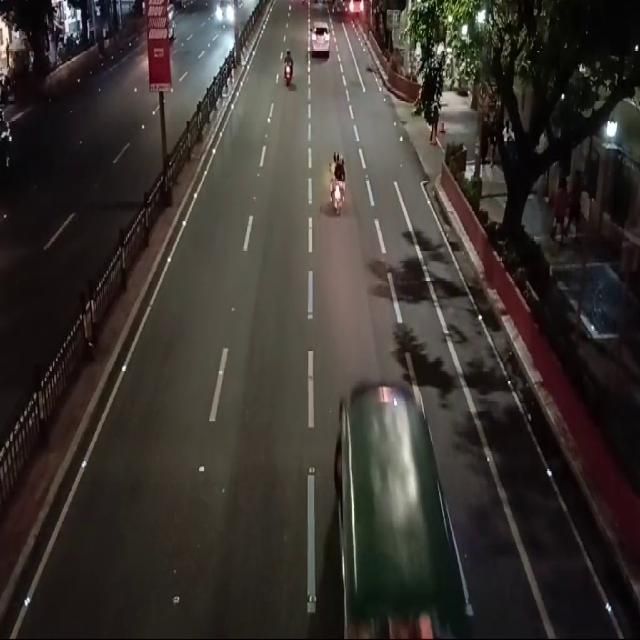car: (305, 17, 337, 62)
motorcycle: (324, 144, 351, 229), (280, 44, 296, 94)
